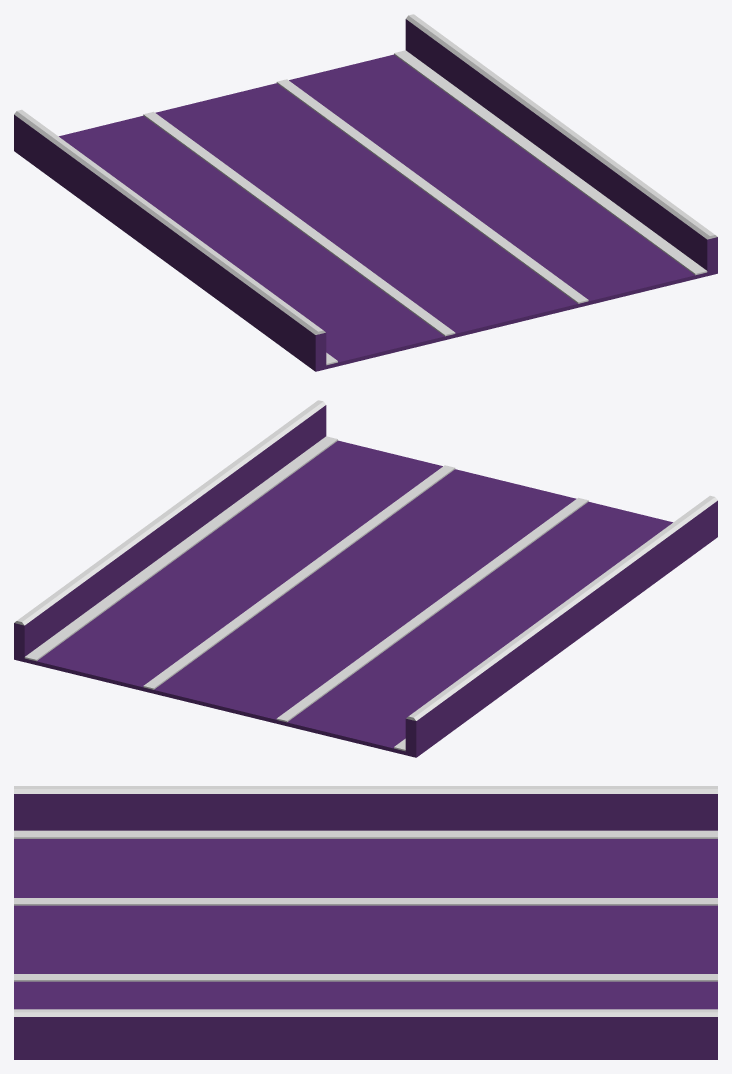
File: road_normal.fbx
The picture shows the model from 3 angles, top to bottom: view 1: azimuth 30°, elevation 25°; view 2: azimuth 150°, elevation 25°; view 3: azimuth 270°, elevation 25°; orthographic projection. The views are drawn at different scales.
Parts seen in each view (by area): view 1: Road_normal; view 2: Road_normal; view 3: Road_normal.
Boxes of the visible parts, bbox=[...] form: Road_normal: bbox=[14, 14, 717, 371]; Road_normal: bbox=[14, 400, 717, 757]; Road_normal: bbox=[14, 786, 717, 1059].
Bounding box in the file's own units: 29.58 × 2.77 × 38.39.
